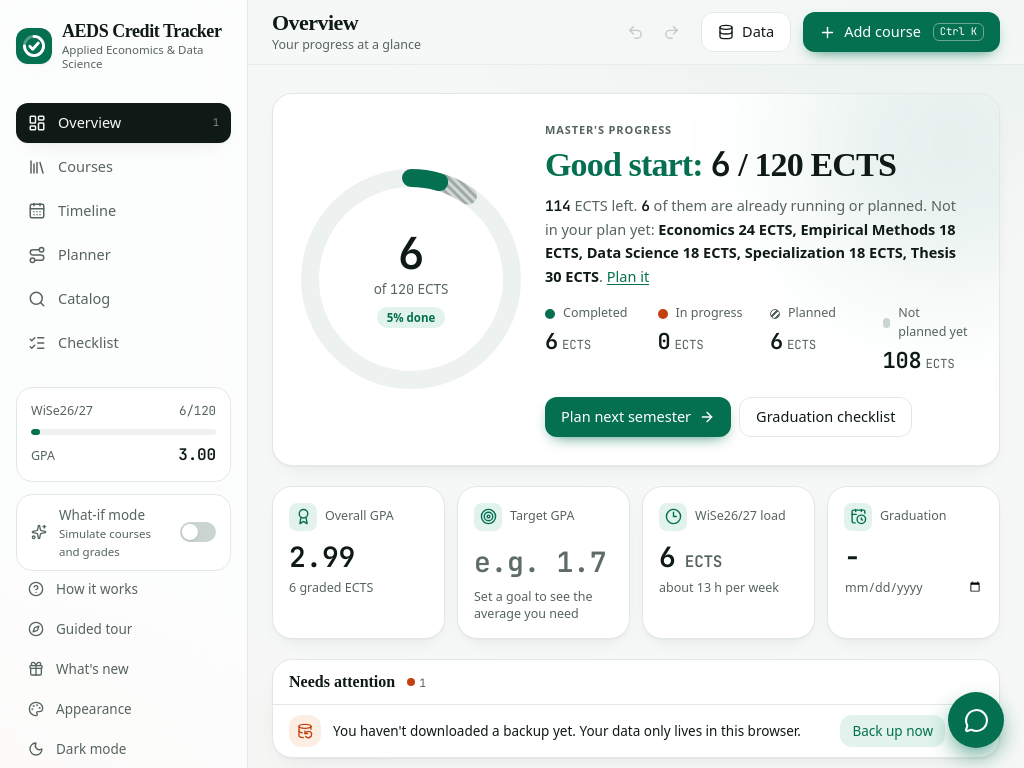
Test: AEDS Assistant streaming › keeps a half answer when the connection drops and asks again on Try again
Click the button named "Open AEDS AI Assistant chat".
click(976, 720)  # box [948,692,1004,748]
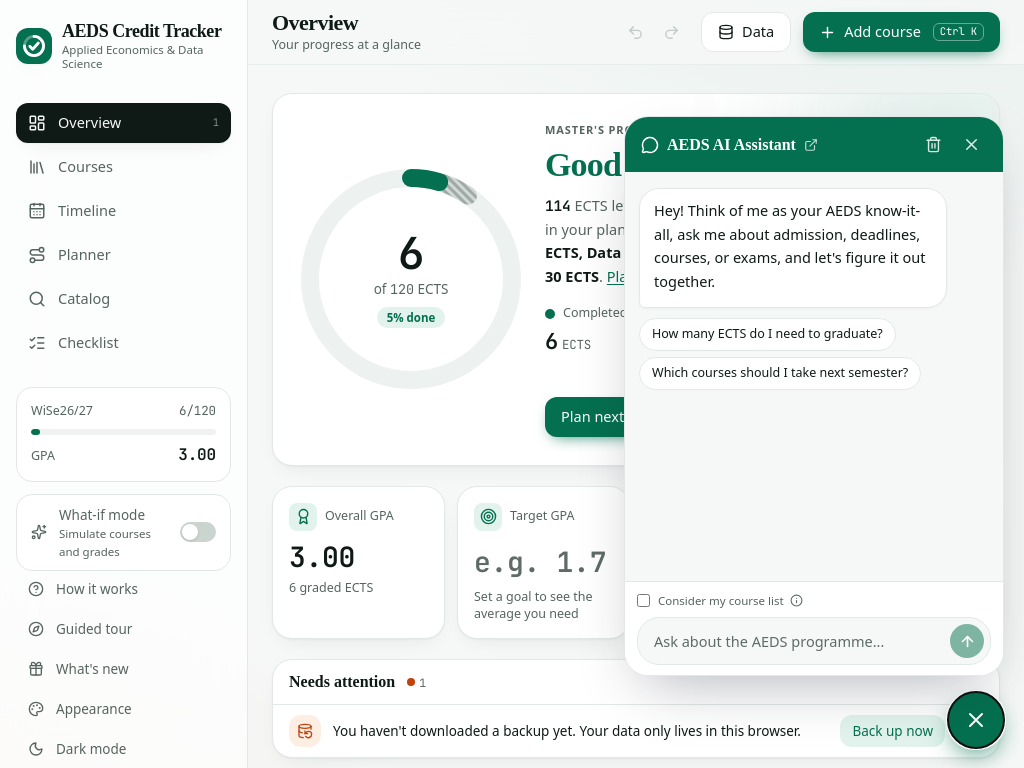
Type "Retakes?" into the text box with placeholder "Ask about the AEDS programme...".
click(799, 642); type("Retakes?")  # box [654,626,944,658]
Then press Enter
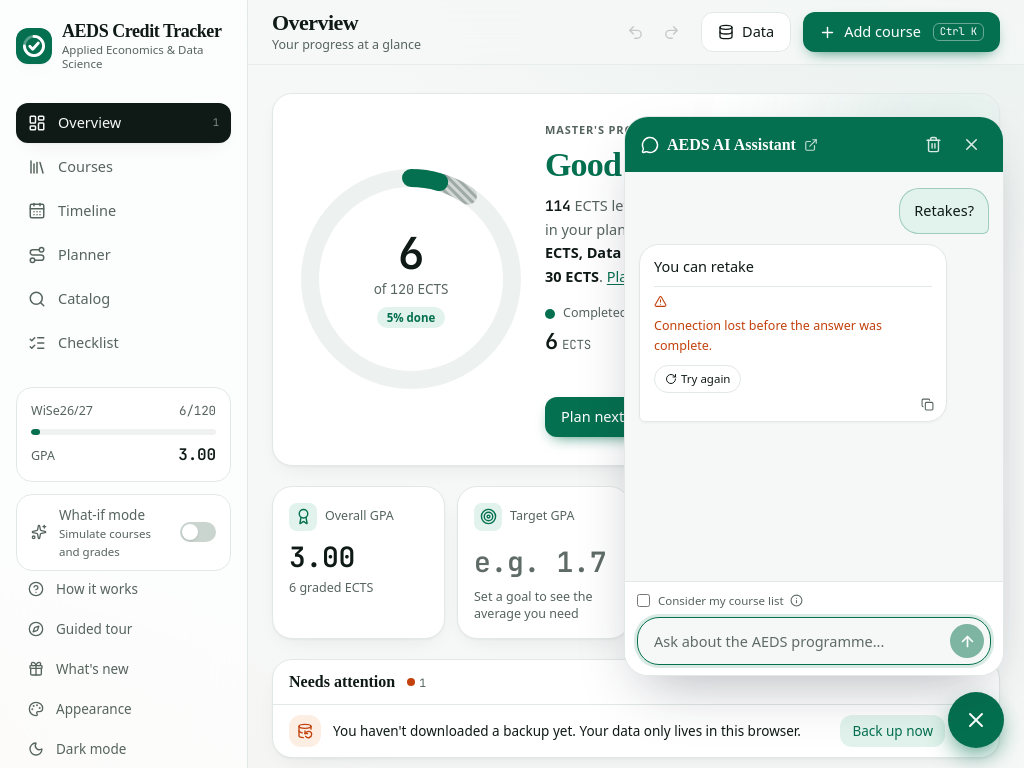
Expected: the text "Connection lost before the answer was complete. Try again" is shown, [654,286,932,393]
Expected: the text "You can retake" is shown, [654,256,754,276]
Click the button "Try again".
click(698, 379)  # box [654,365,742,394]
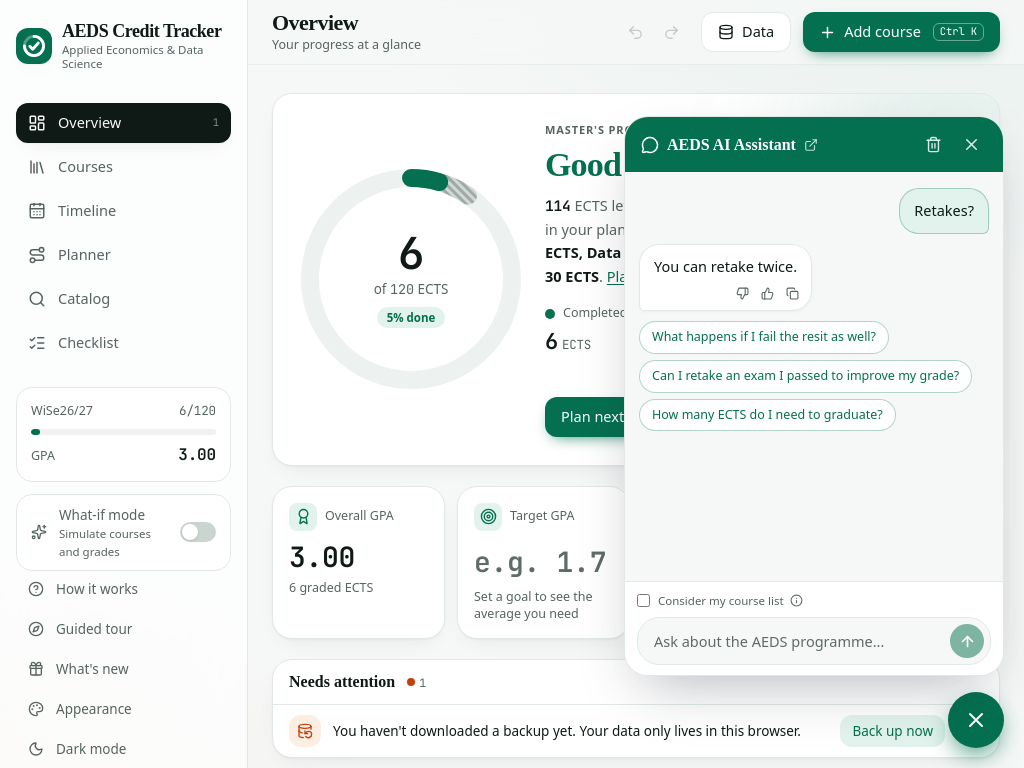
Expected: the text "Retakes?" is shown once, [899,188,989,234]
Expected: the text "You can retake twice." is shown, [654,255,797,278]
Expected: the text "Connection lost" is gone
